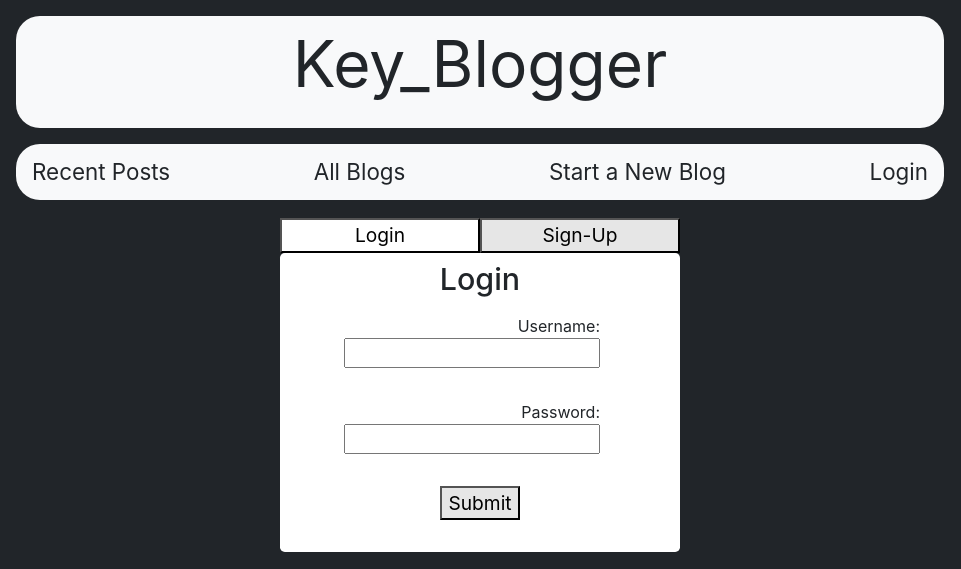
Make sure Nav loads › loads 'recent posts' correctly when clicked
Click the link "Recent Posts" at (101, 172), box 32,158 -> 170,185
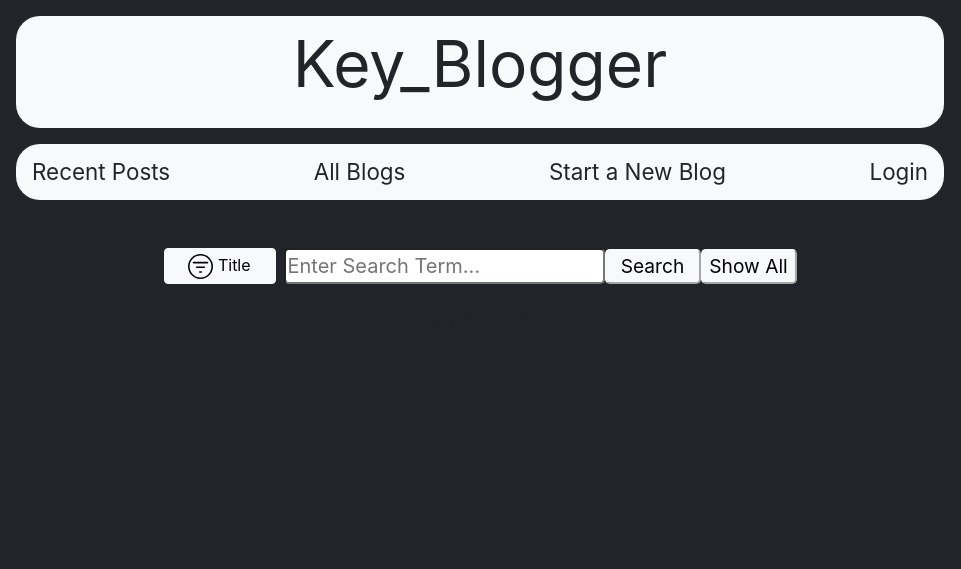
Now the element with test id "postList" is shown, box 164,248 -> 797,330
